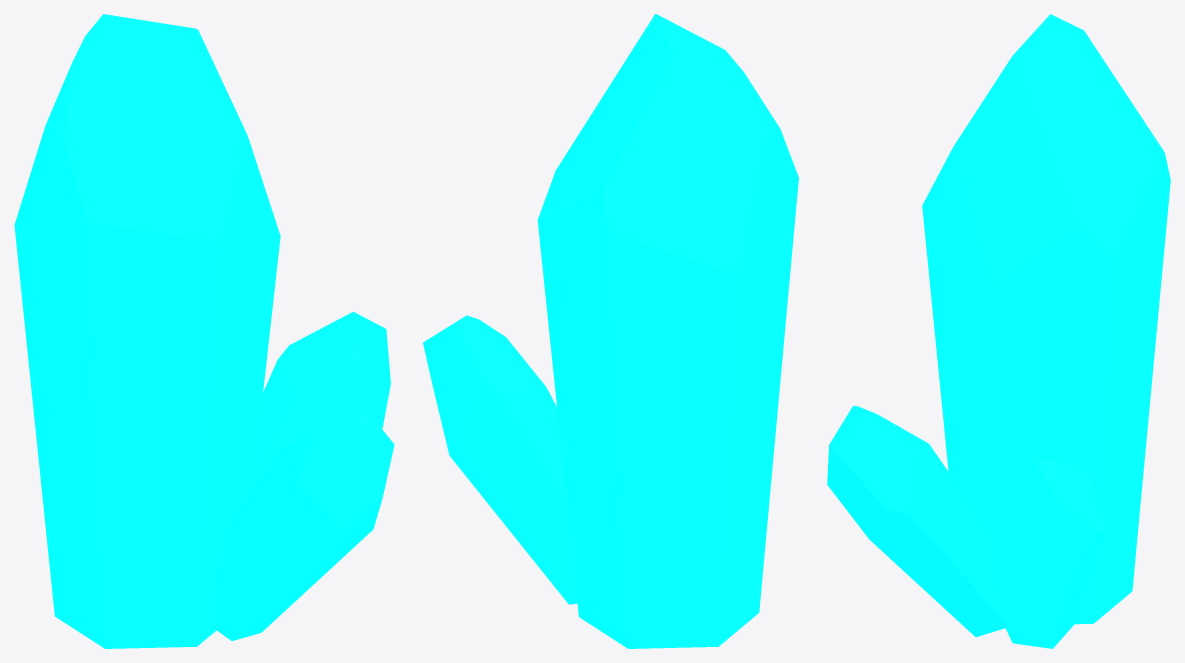
Rendered from HexStone03.fbx.
3 renders of one model, left to right at view 1: azimuth 30°, elevation 25°; view 2: azimuth 150°, elevation 25°; view 3: azimuth 270°, elevation 25°, orthographic. The views are drawn at different scales.
Visible parts, largest first — view 1: HexStoneBase.009, HexStoneBase.011, HexStoneBase.010; view 2: HexStoneBase.009, HexStoneBase.010; view 3: HexStoneBase.009, HexStoneBase.011, HexStoneBase.010.
Boxes of the visible parts, x1,y1,x2,y2 form: HexStoneBase.009: [14, 14, 280, 648]; HexStoneBase.011: [210, 408, 394, 640]; HexStoneBase.010: [252, 311, 390, 487]; HexStoneBase.009: [537, 14, 798, 648]; HexStoneBase.010: [423, 315, 577, 604]; HexStoneBase.009: [922, 14, 1170, 624]; HexStoneBase.011: [827, 405, 1006, 637]; HexStoneBase.010: [992, 459, 1107, 648].
Bounding box in the file's own units: 244 × 405 × 224.
